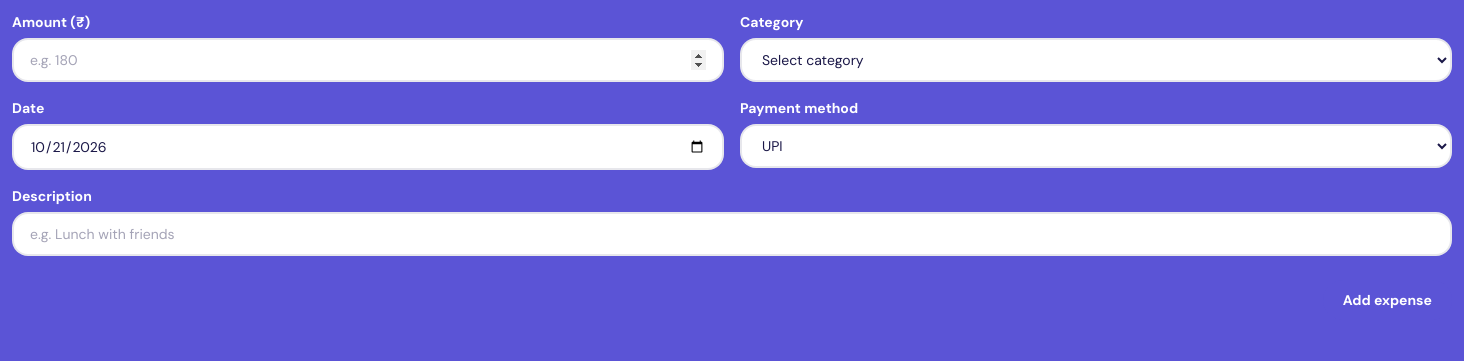
Expense form › requires amount and category
The width and height of the screenshot is (1464, 361).
Click the button "Add expense": (1387, 300) [1323,280,1452,320]
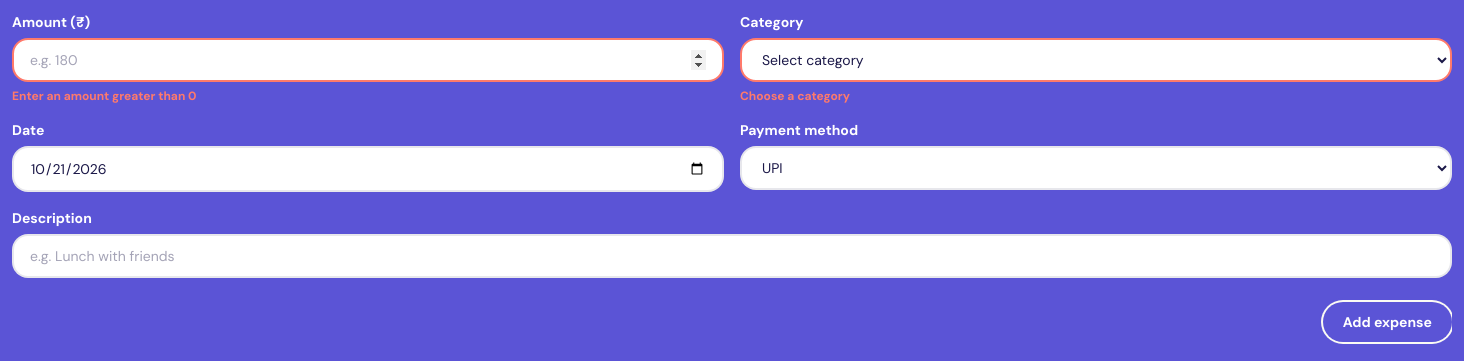
Expected: the text "Enter an amount greater than 0" is shown, [12,88,197,104]
Expected: the text "Choose a category" is shown, [740,88,850,104]
